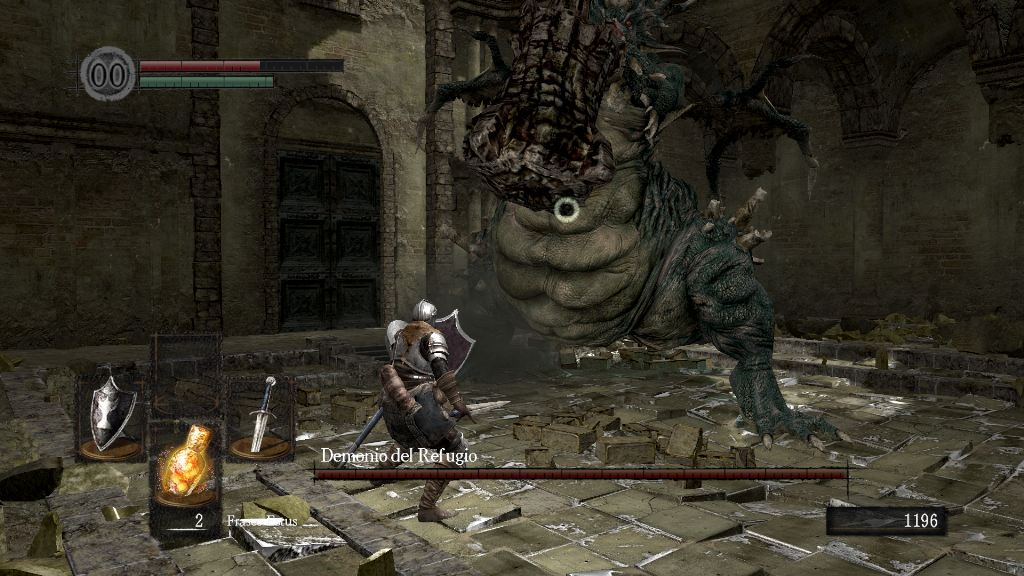asylumDemon: (418, 1, 851, 450)
bossHP: (314, 469, 847, 479)
health: (138, 58, 343, 71)
humanity: (80, 45, 136, 102)
player: (368, 297, 511, 523)
souls: (825, 506, 945, 536)
stamina: (138, 74, 274, 88)
